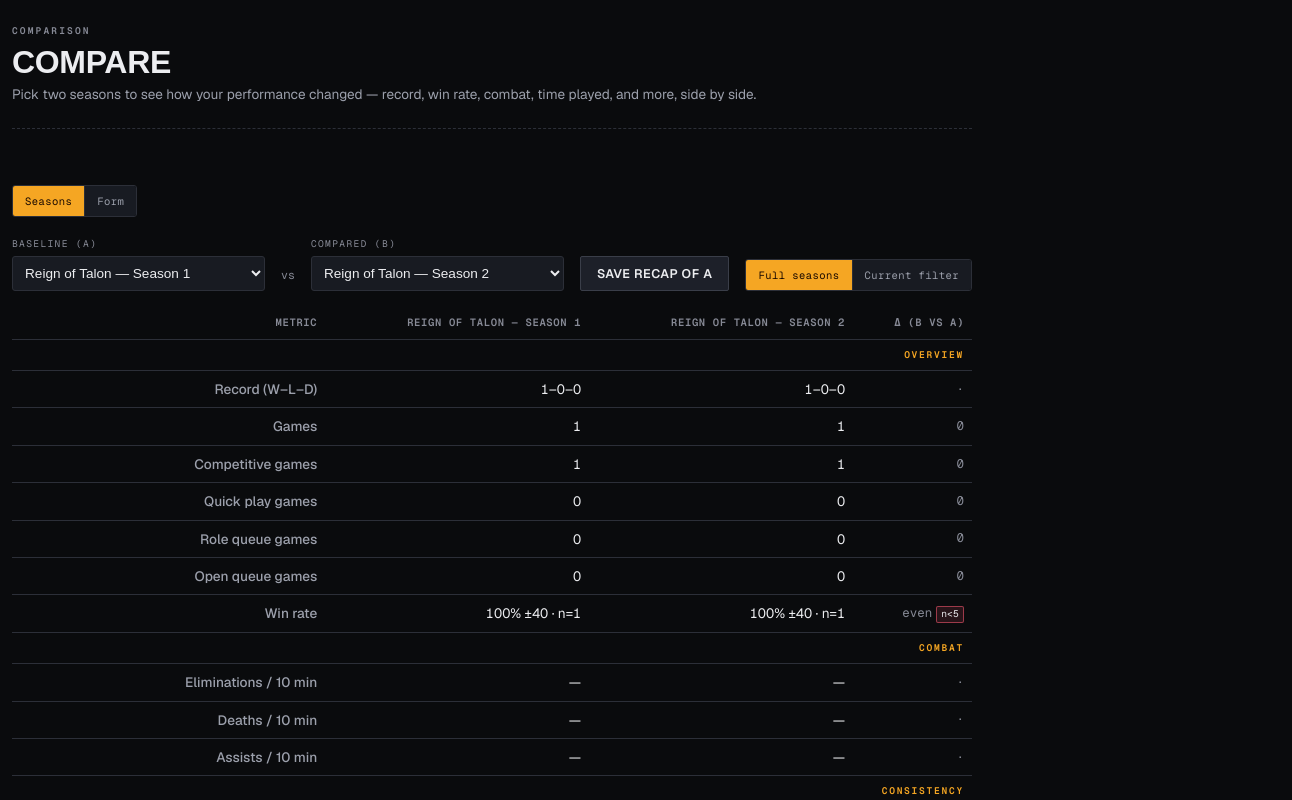
Test: SeasonCompareView › re-picks the baseline column from the grouped season list
Select "Reign of Talon — Season 2" in the dropdown labelled "Baseline (A)" at (139, 273), box [12,256,265,291]
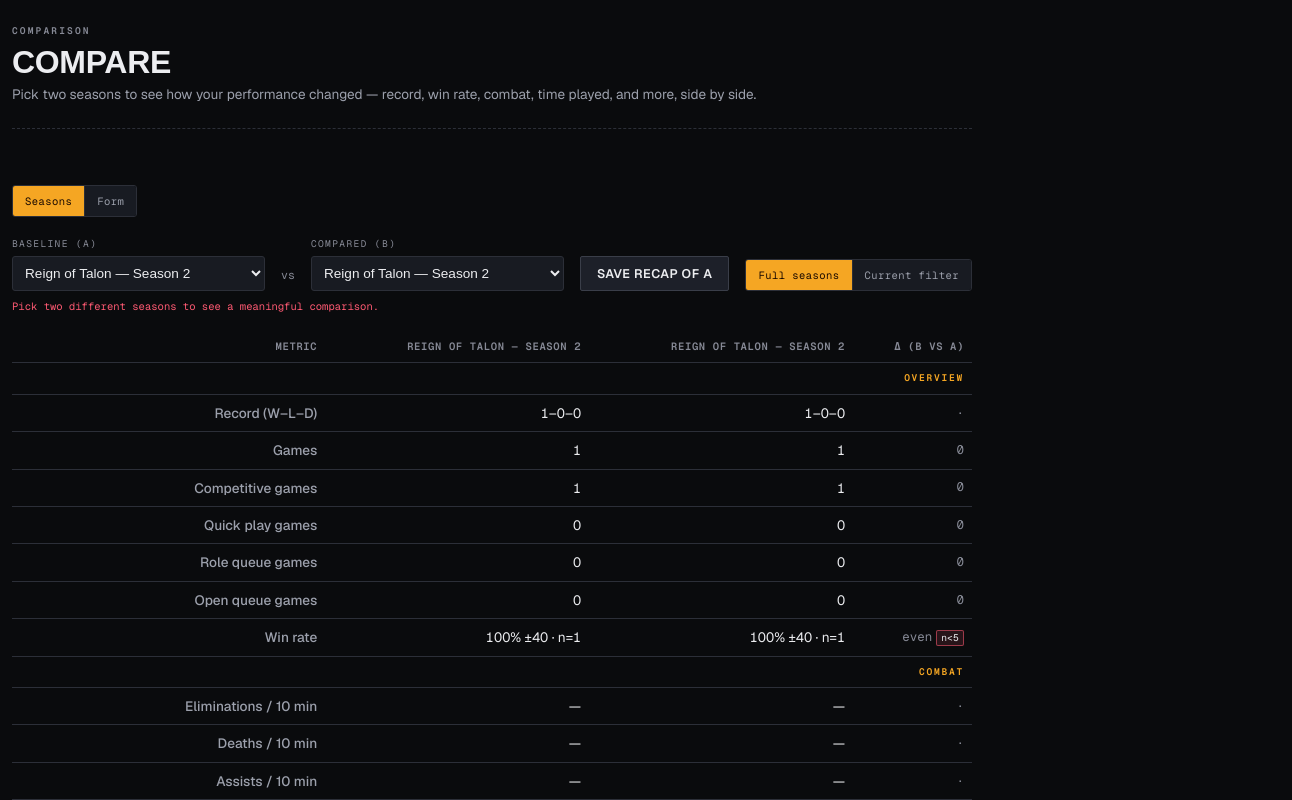
Expected: the number of column headings "Reign of Talon — Season 2" is 2, [325,331,589,363]; [589,331,853,363]
Now the message "Pick two different seasons to see a meaningful comparison." is shown, box [12,299,379,313]
